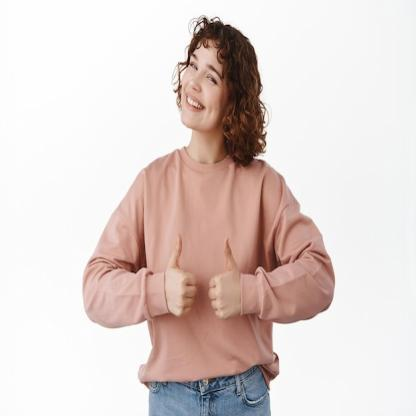thumb_up: (160, 229, 200, 321), (206, 235, 246, 325)
